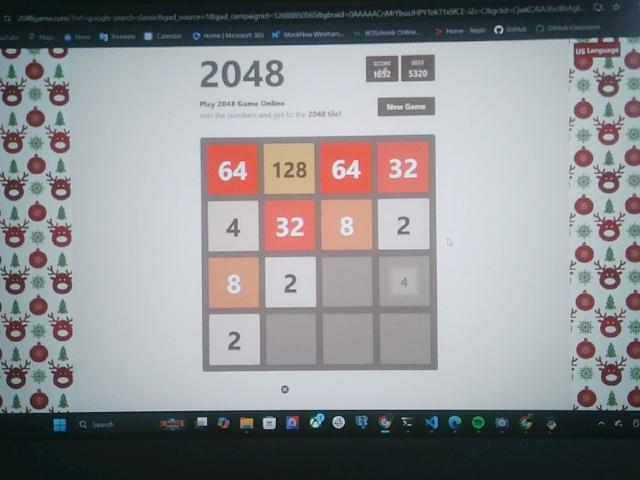best_score_box: (402, 55, 435, 81)
button: (378, 96, 435, 117)
score_box: (365, 55, 399, 83)
